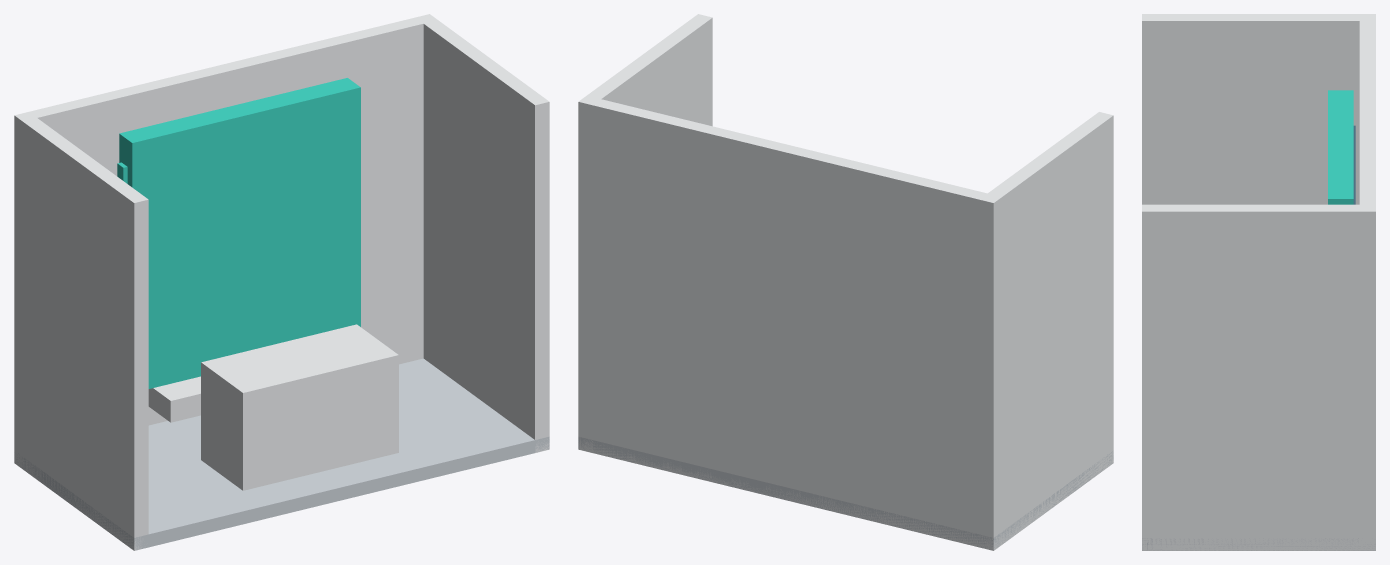
The picture shows the model from 3 angles, left to right: view 1: azimuth 30°, elevation 25°; view 2: azimuth 150°, elevation 25°; view 3: azimuth 270°, elevation 25°; orthographic projection. The views are drawn at different scales.
Visible parts, largest first — view 1: Exhibition Booth Concept; view 2: Exhibition Booth Concept; view 3: Exhibition Booth Concept.
Boxes of the visible parts, x1,y1,x2,y2 form: Exhibition Booth Concept: [14, 14, 549, 550]; Exhibition Booth Concept: [578, 14, 1113, 550]; Exhibition Booth Concept: [1142, 14, 1375, 550].
Size of the model in its own units: 4 by 3.2 by 2.
